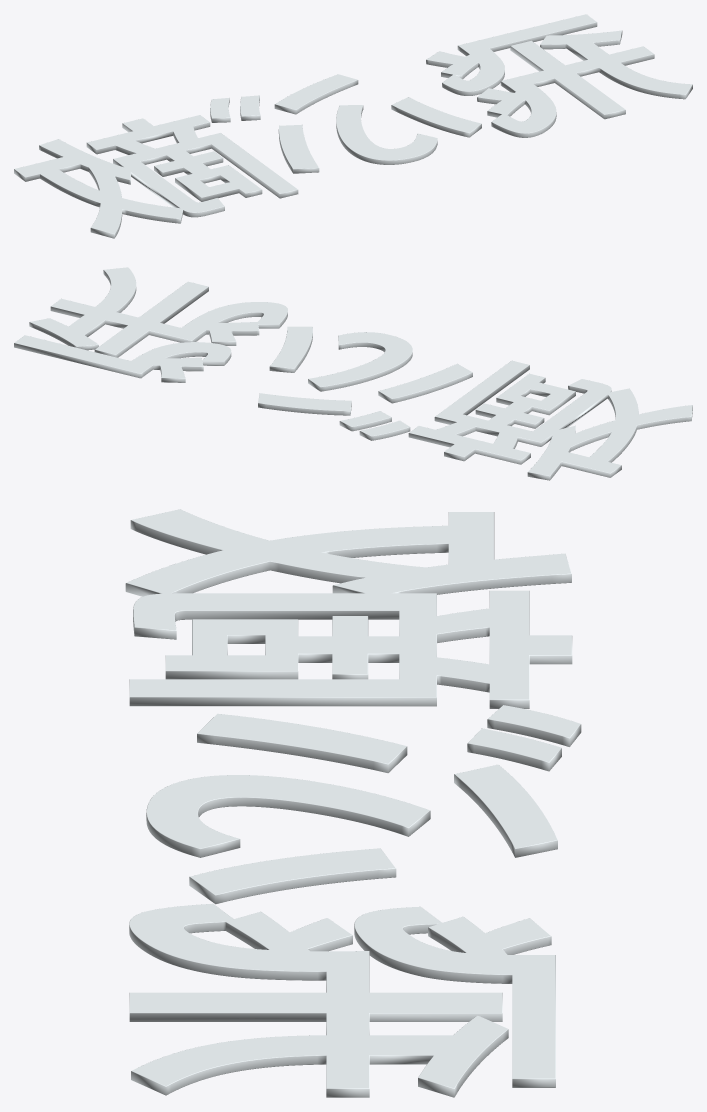
Rendered from stage2_glider_name.obj.
The picture shows the model from 3 angles, top to bottom: view 1: azimuth 30°, elevation 25°; view 2: azimuth 150°, elevation 25°; view 3: azimuth 270°, elevation 25°; orthographic projection. The views are drawn at different scales.
Parts seen in each view (by area): view 1: stage2_glider_name; view 2: stage2_glider_name; view 3: stage2_glider_name.
Part boxes in pixels (x1=…): stage2_glider_name: x1=14, y1=14, x2=692, y2=238; stage2_glider_name: x1=14, y1=267, x2=692, y2=480; stage2_glider_name: x1=125, y1=509, x2=581, y2=1097.
Bounding box in the file's own units: 2.17 × 0.0162 × 0.72.
1 material, 1 textured.
